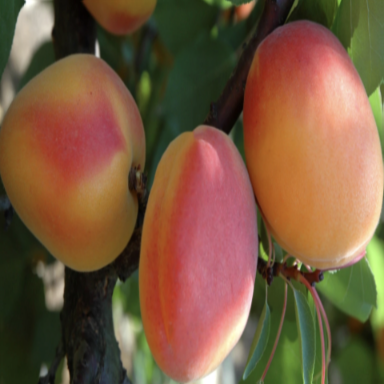mango: (239, 4, 384, 287), (7, 36, 162, 290), (128, 121, 273, 384)
